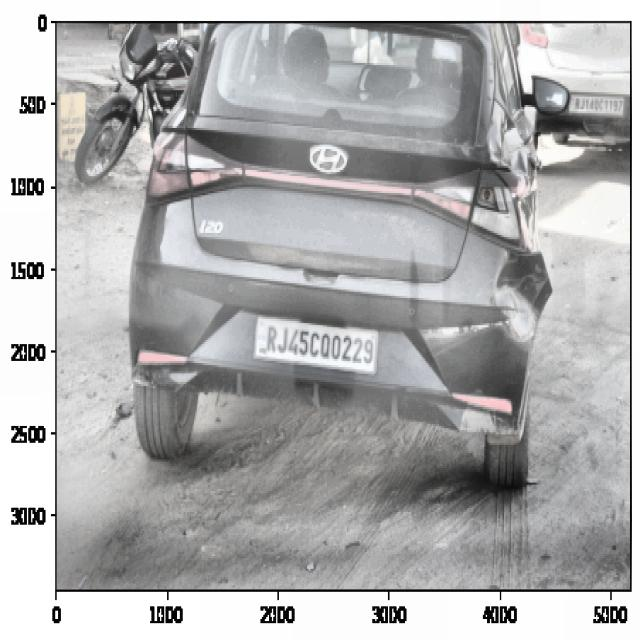license_plate: (262, 318, 376, 376)
